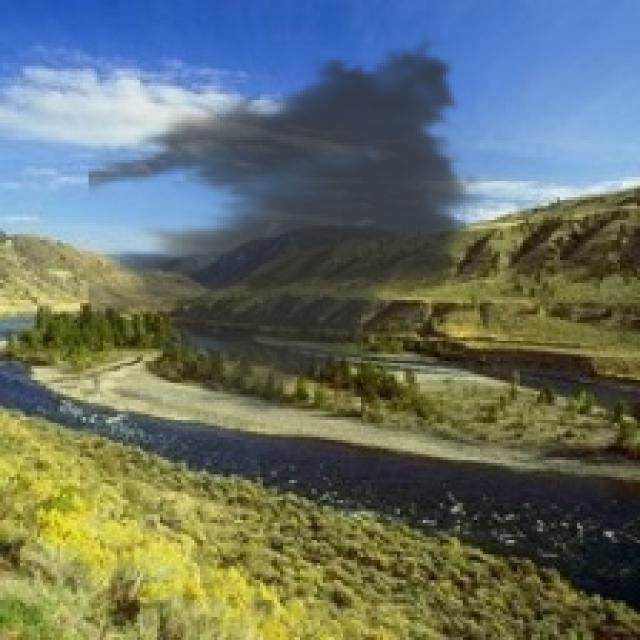Smoke: (89, 28, 492, 426)
